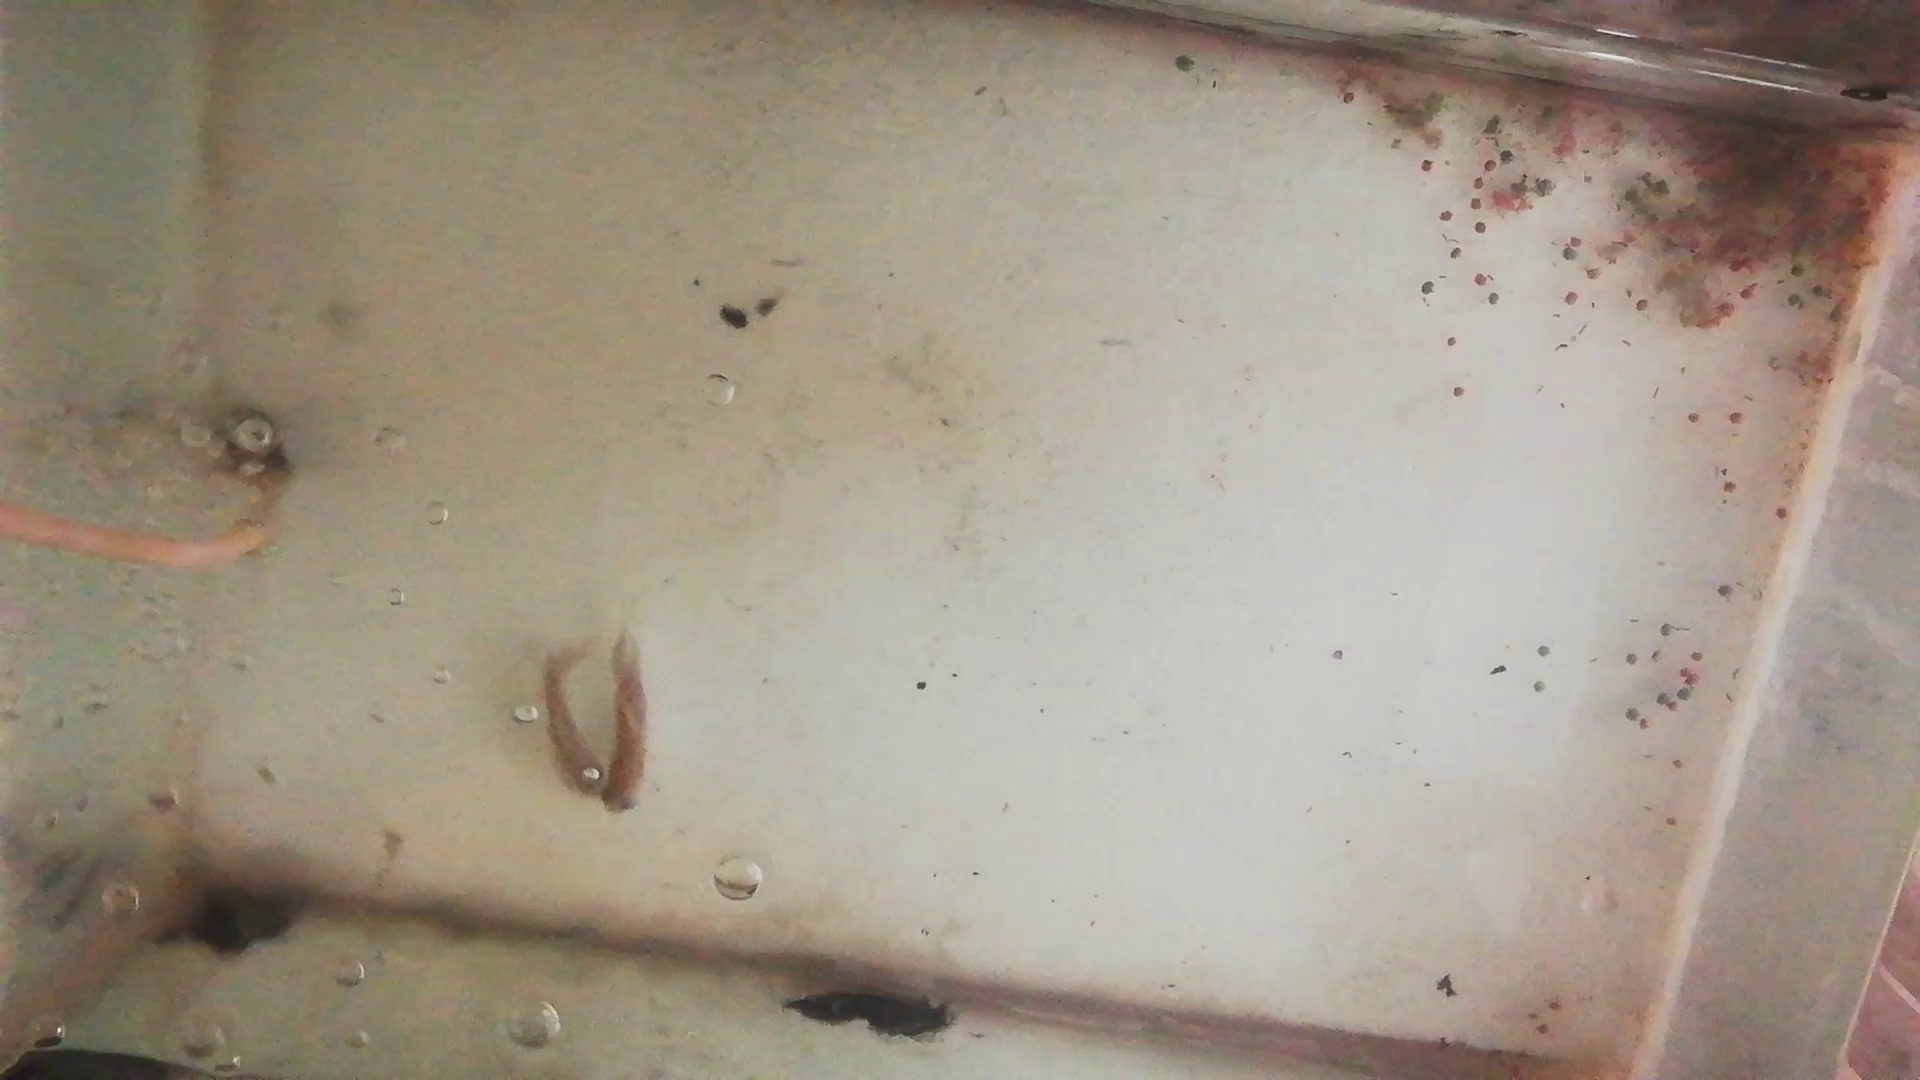fish: (541, 634, 604, 810), (597, 628, 655, 819)
